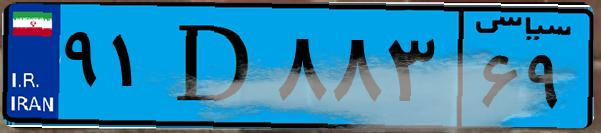1: (110, 28, 158, 98)
3: (385, 28, 445, 110)
6: (475, 38, 525, 113)
8: (270, 28, 330, 110), (330, 28, 385, 110)
9: (57, 26, 110, 100), (525, 38, 570, 115)
D: (158, 12, 270, 120)
